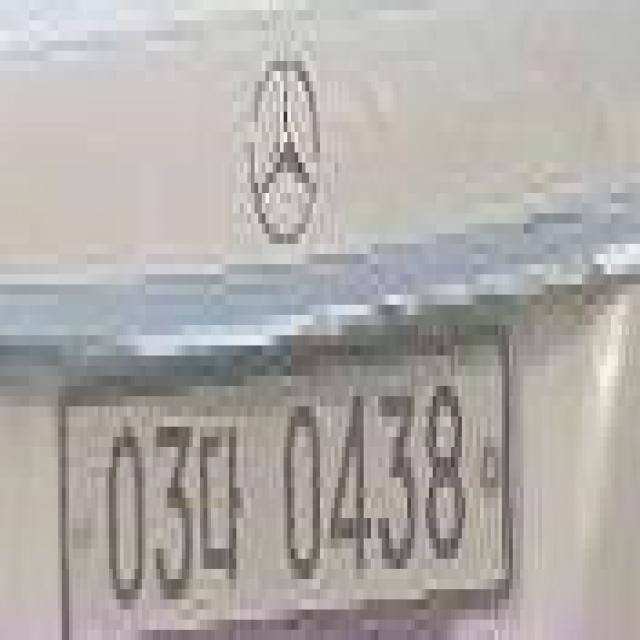illegal_plate: (59, 333, 510, 640)
